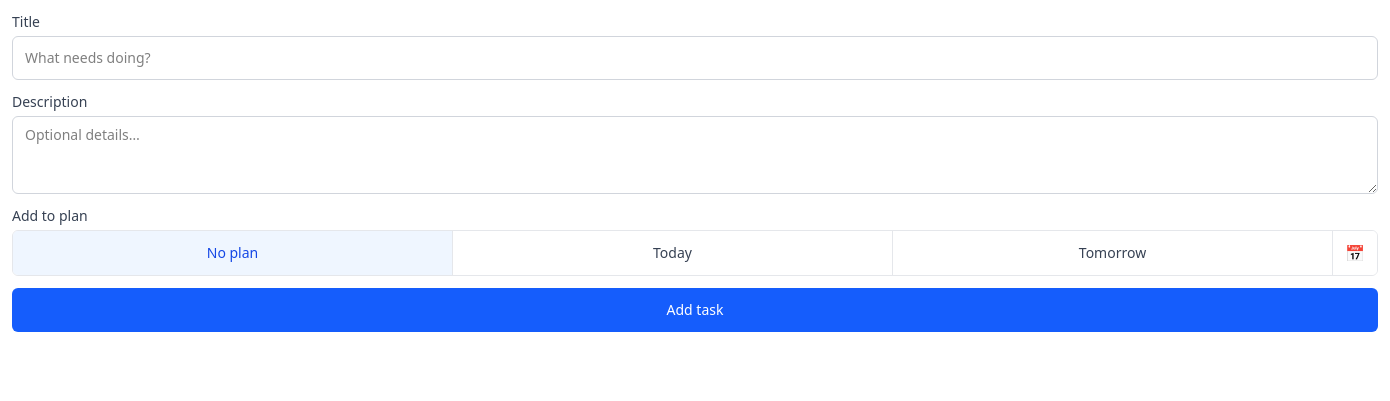
Scenario: TaskForm — US2 date affordance › selecting a date makes it the active choice; clearing the input returns to previous
# Select Today first.
What coordinates should you click on to do the following:
click the radio button "Today"
I would click on:
 (673, 253)
Its box is x1=453 y1=231 x2=893 y2=275.
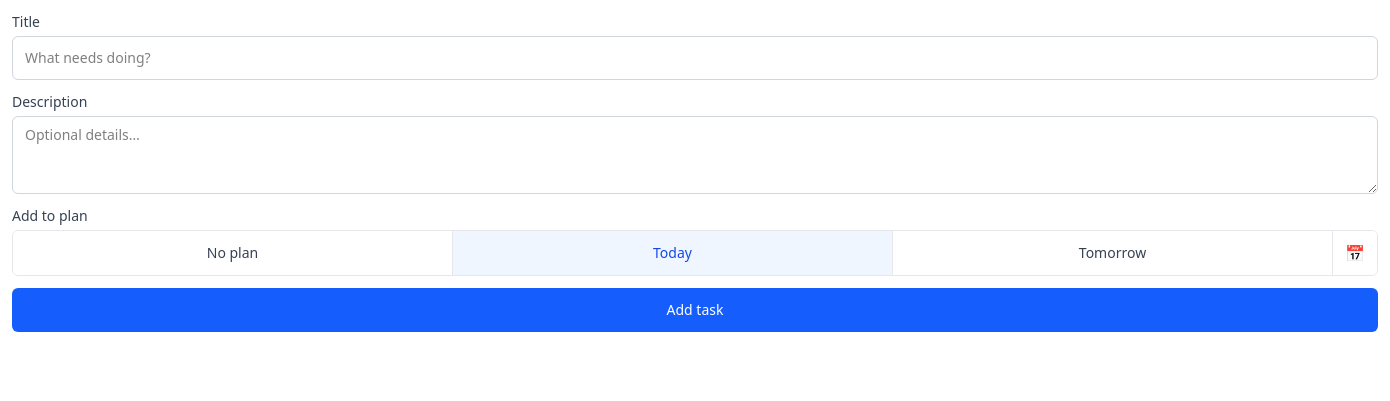
expect the radio button "Today" is checked: met, box x1=453 y1=231 x2=893 y2=275
# Switch to date.
What coordinates should you click on to do the following:
click the radio button named "pick a specific date"
I would click on:
 (1355, 253)
Its box is x1=1333 y1=231 x2=1377 y2=275.
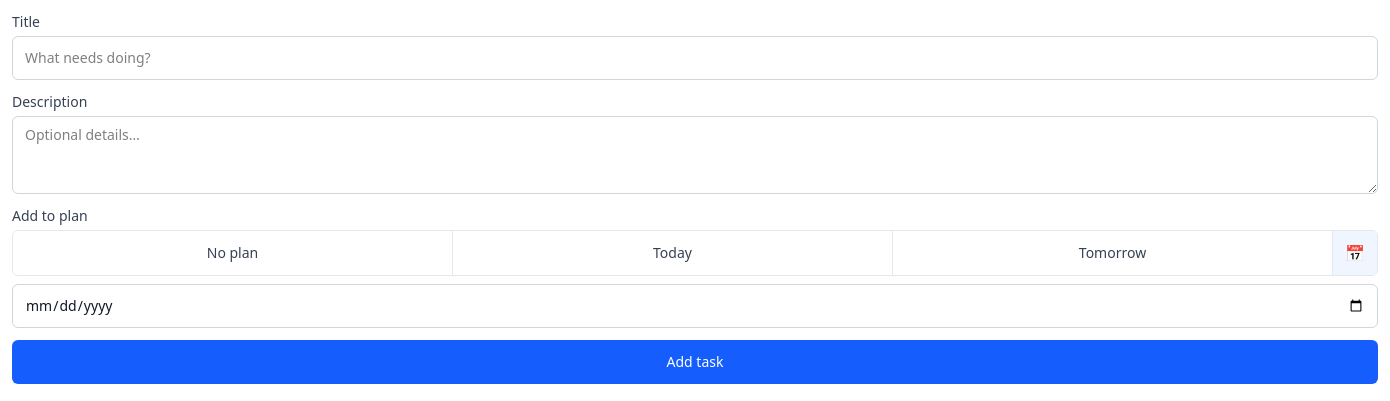
# Clearing date input by switching back to Today.
What coordinates should you click on to do the following:
click the radio button "Today"
I would click on:
 (673, 253)
Its box is x1=453 y1=231 x2=893 y2=275.
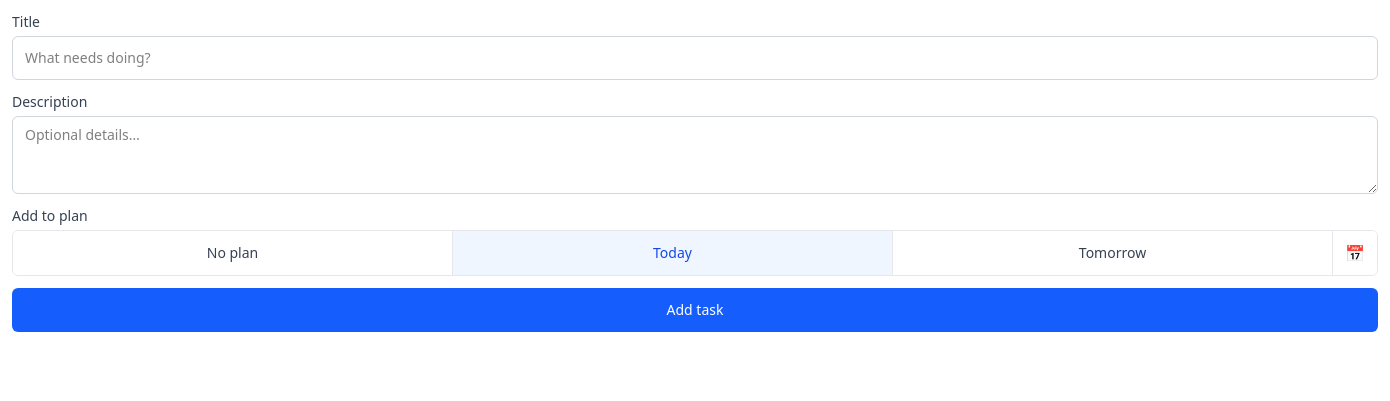
expect the date field labelled "pick a date" is gone: met
